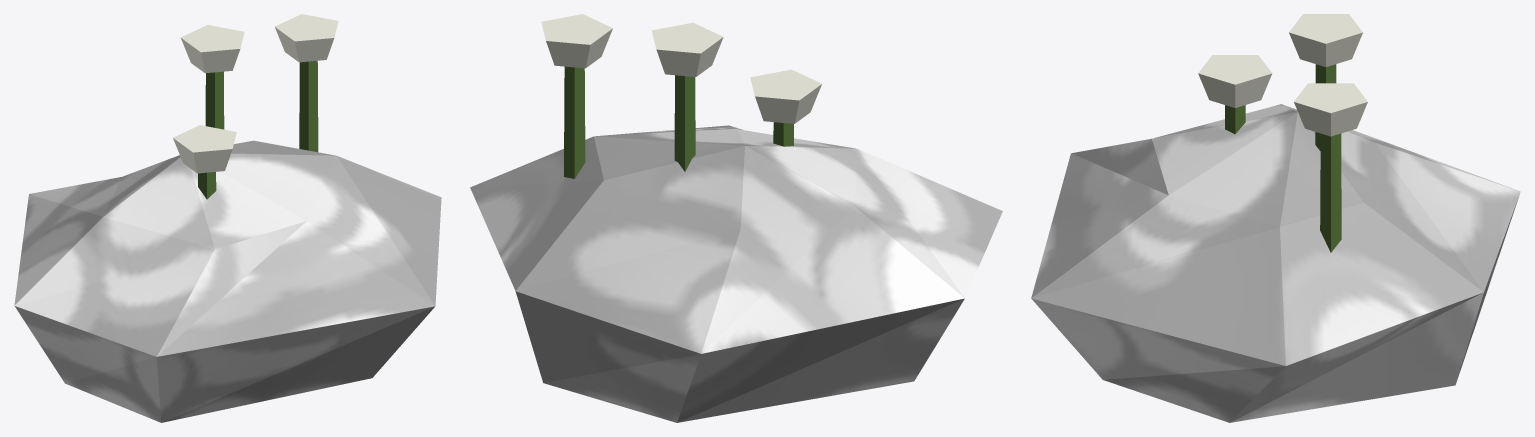
File: healroot_2.obj
3 views of the same model, side by side, from view 1: azimuth 30°, elevation 25°; view 2: azimuth 150°, elevation 25°; view 3: azimuth 270°, elevation 25° (orthographic). The views are drawn at different scales.
Parts seen in each view (by area): view 1: healroot_2; view 2: healroot_2; view 3: healroot_2.
Boxes of the visible parts, left/top/right/bottom form: healroot_2: left=14, top=14, right=441, bottom=422; healroot_2: left=470, top=14, right=1002, bottom=422; healroot_2: left=1031, top=14, right=1520, bottom=422.
Size of the model in its own units: 0.5823 by 0.3612 by 0.5013.
